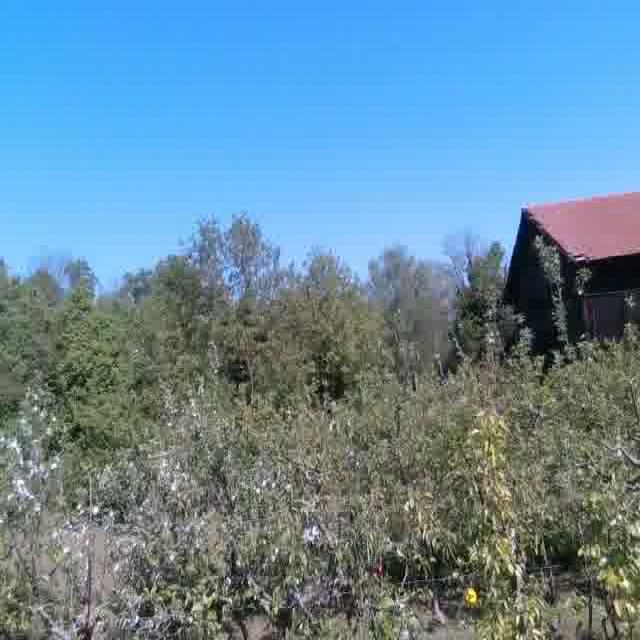red: (368, 559, 388, 582)
yellow: (464, 587, 480, 606)
